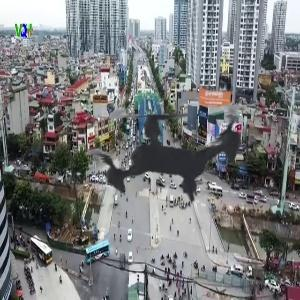drone: (45, 35, 289, 279)
